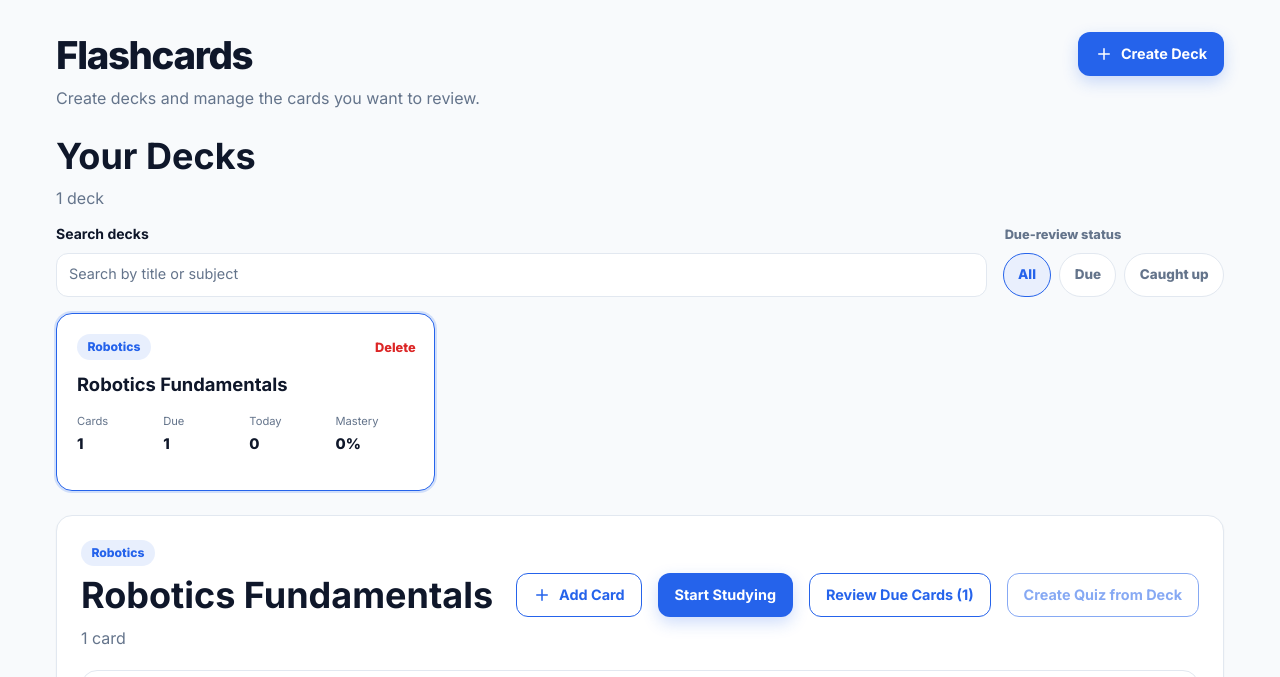
Test: shows the due count and starts a due-only review
Expected: the number of buttons "Due" is 2, [1059,252,1116,296]; [163,414,184,428]
Click the button "Review Due Cards (1)".
click(900, 595)  # box [809,573,991,617]
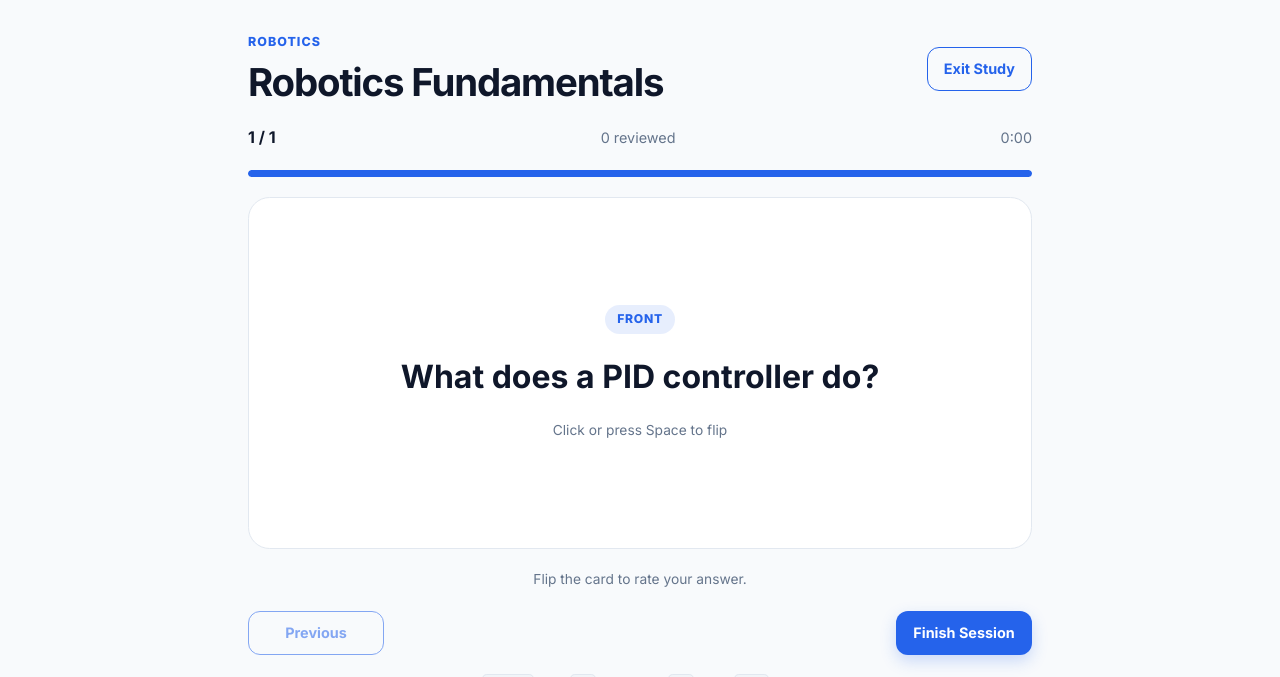
Expected: the text "What does a PID controller do?" is shown, [401,354,879,400]
Expected: the button "Exit Study" is shown, [927,47,1032,91]
